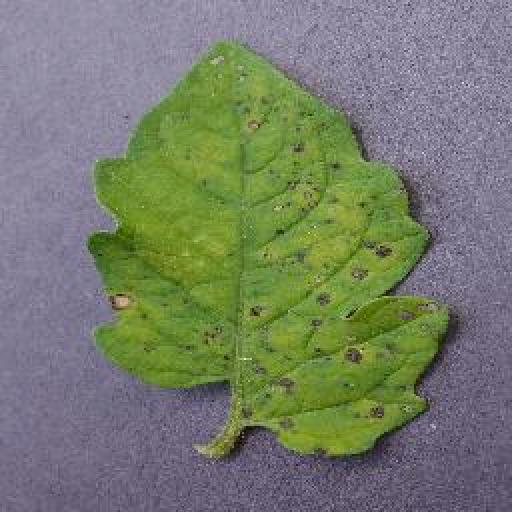disease_tomato: (92, 31, 454, 457)
